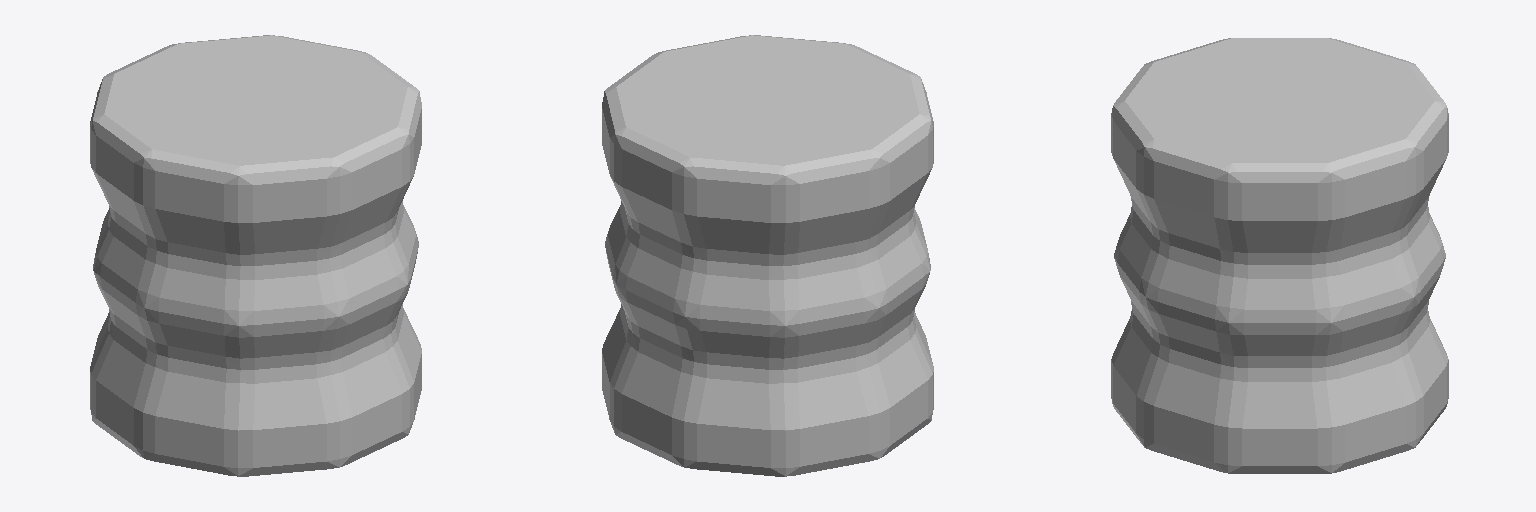
The model's file is pneu.obj.
The picture shows the model from 3 angles: view 1: azimuth 30°, elevation 25°; view 2: azimuth 150°, elevation 25°; view 3: azimuth 270°, elevation 25°; orthographic projection.
Visible parts, largest first — view 1: Cylinder; view 2: Cylinder; view 3: Cylinder.
Part boxes in pixels (x1,y1,x2,y2): Cylinder: (90, 35, 421, 476); Cylinder: (602, 35, 933, 476); Cylinder: (1111, 38, 1448, 473).
Size of the model in its own units: 0.9511 by 1 by 0.9837.